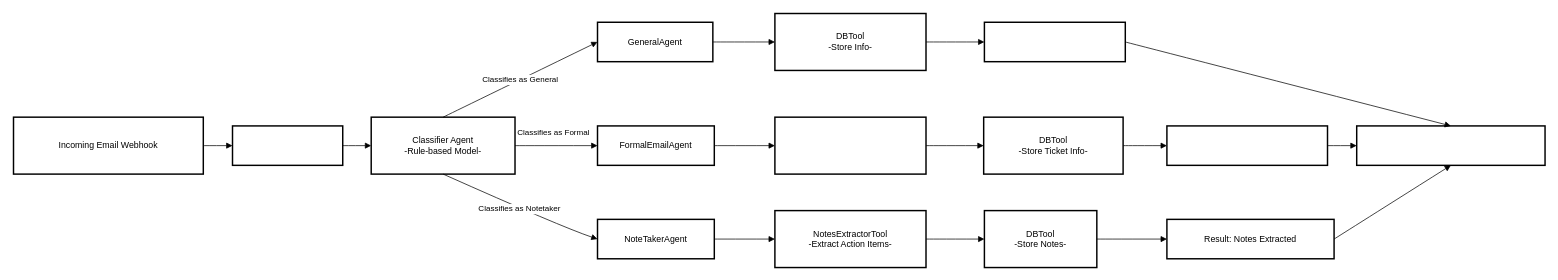
This 1558x280 diagram has some shape labels left out. Here are the shapes that lost their labels. From the top down, the box of each, then its label:
(983, 21, 1126, 62): Result: Info Stored
(231, 125, 343, 166): Orchestrator
(774, 116, 926, 174): JiraTool -Create Ticket-
(1166, 125, 1328, 166): Result: Ticket Created
(1356, 125, 1545, 166): Orchestrator Returns Result
